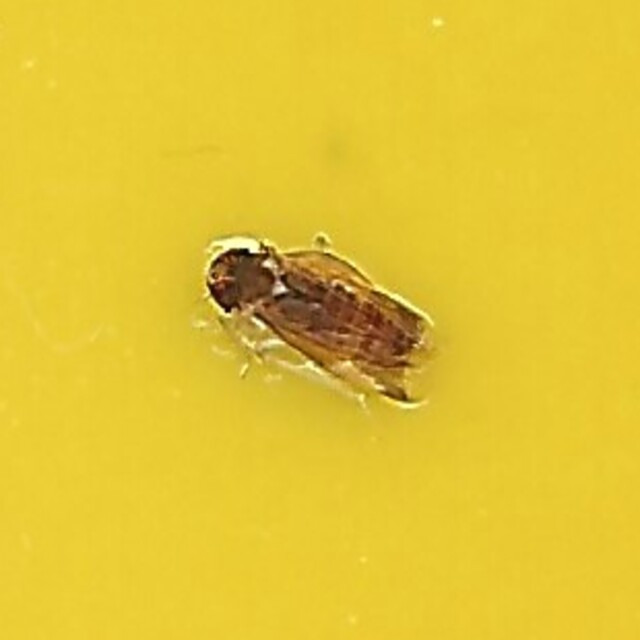Hemiptera: (206, 239, 434, 401)
